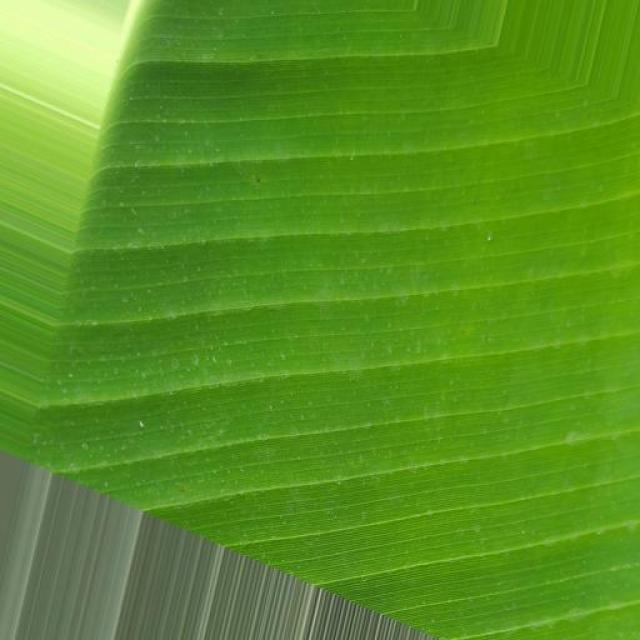Black_leaf_spot: (29, 0, 640, 585)
